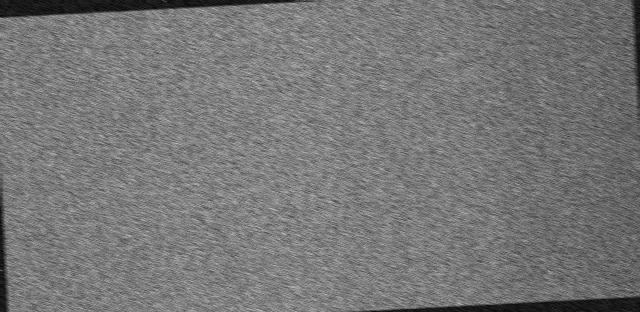inclusion: (564, 0, 586, 23)
water_spot: (565, 196, 640, 282)
